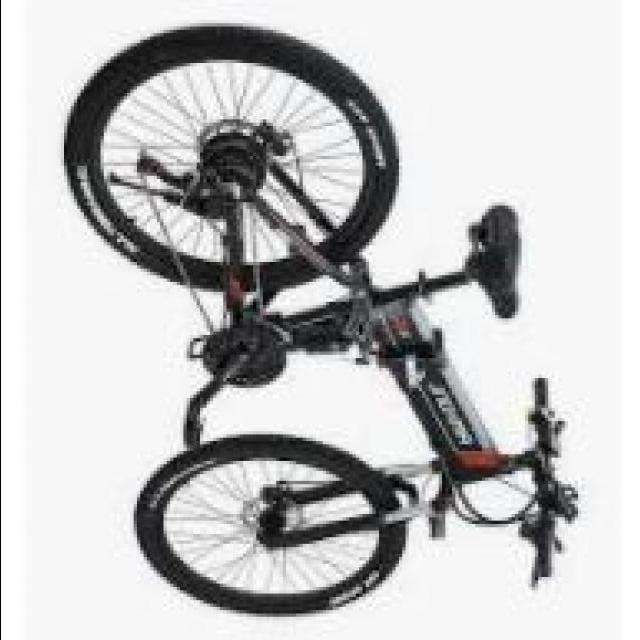bicycle: (107, 37, 548, 627)
